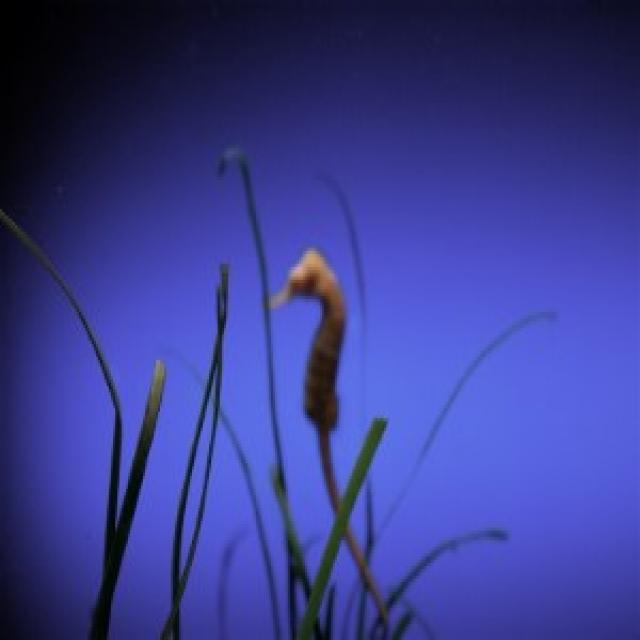Seahorse: (262, 238, 351, 490)
